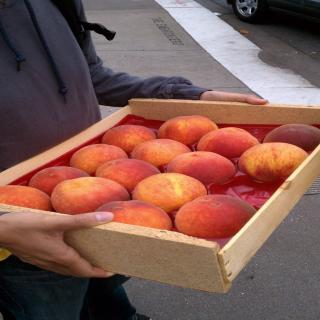Peach: (0, 115, 319, 239), (50, 176, 123, 213)
